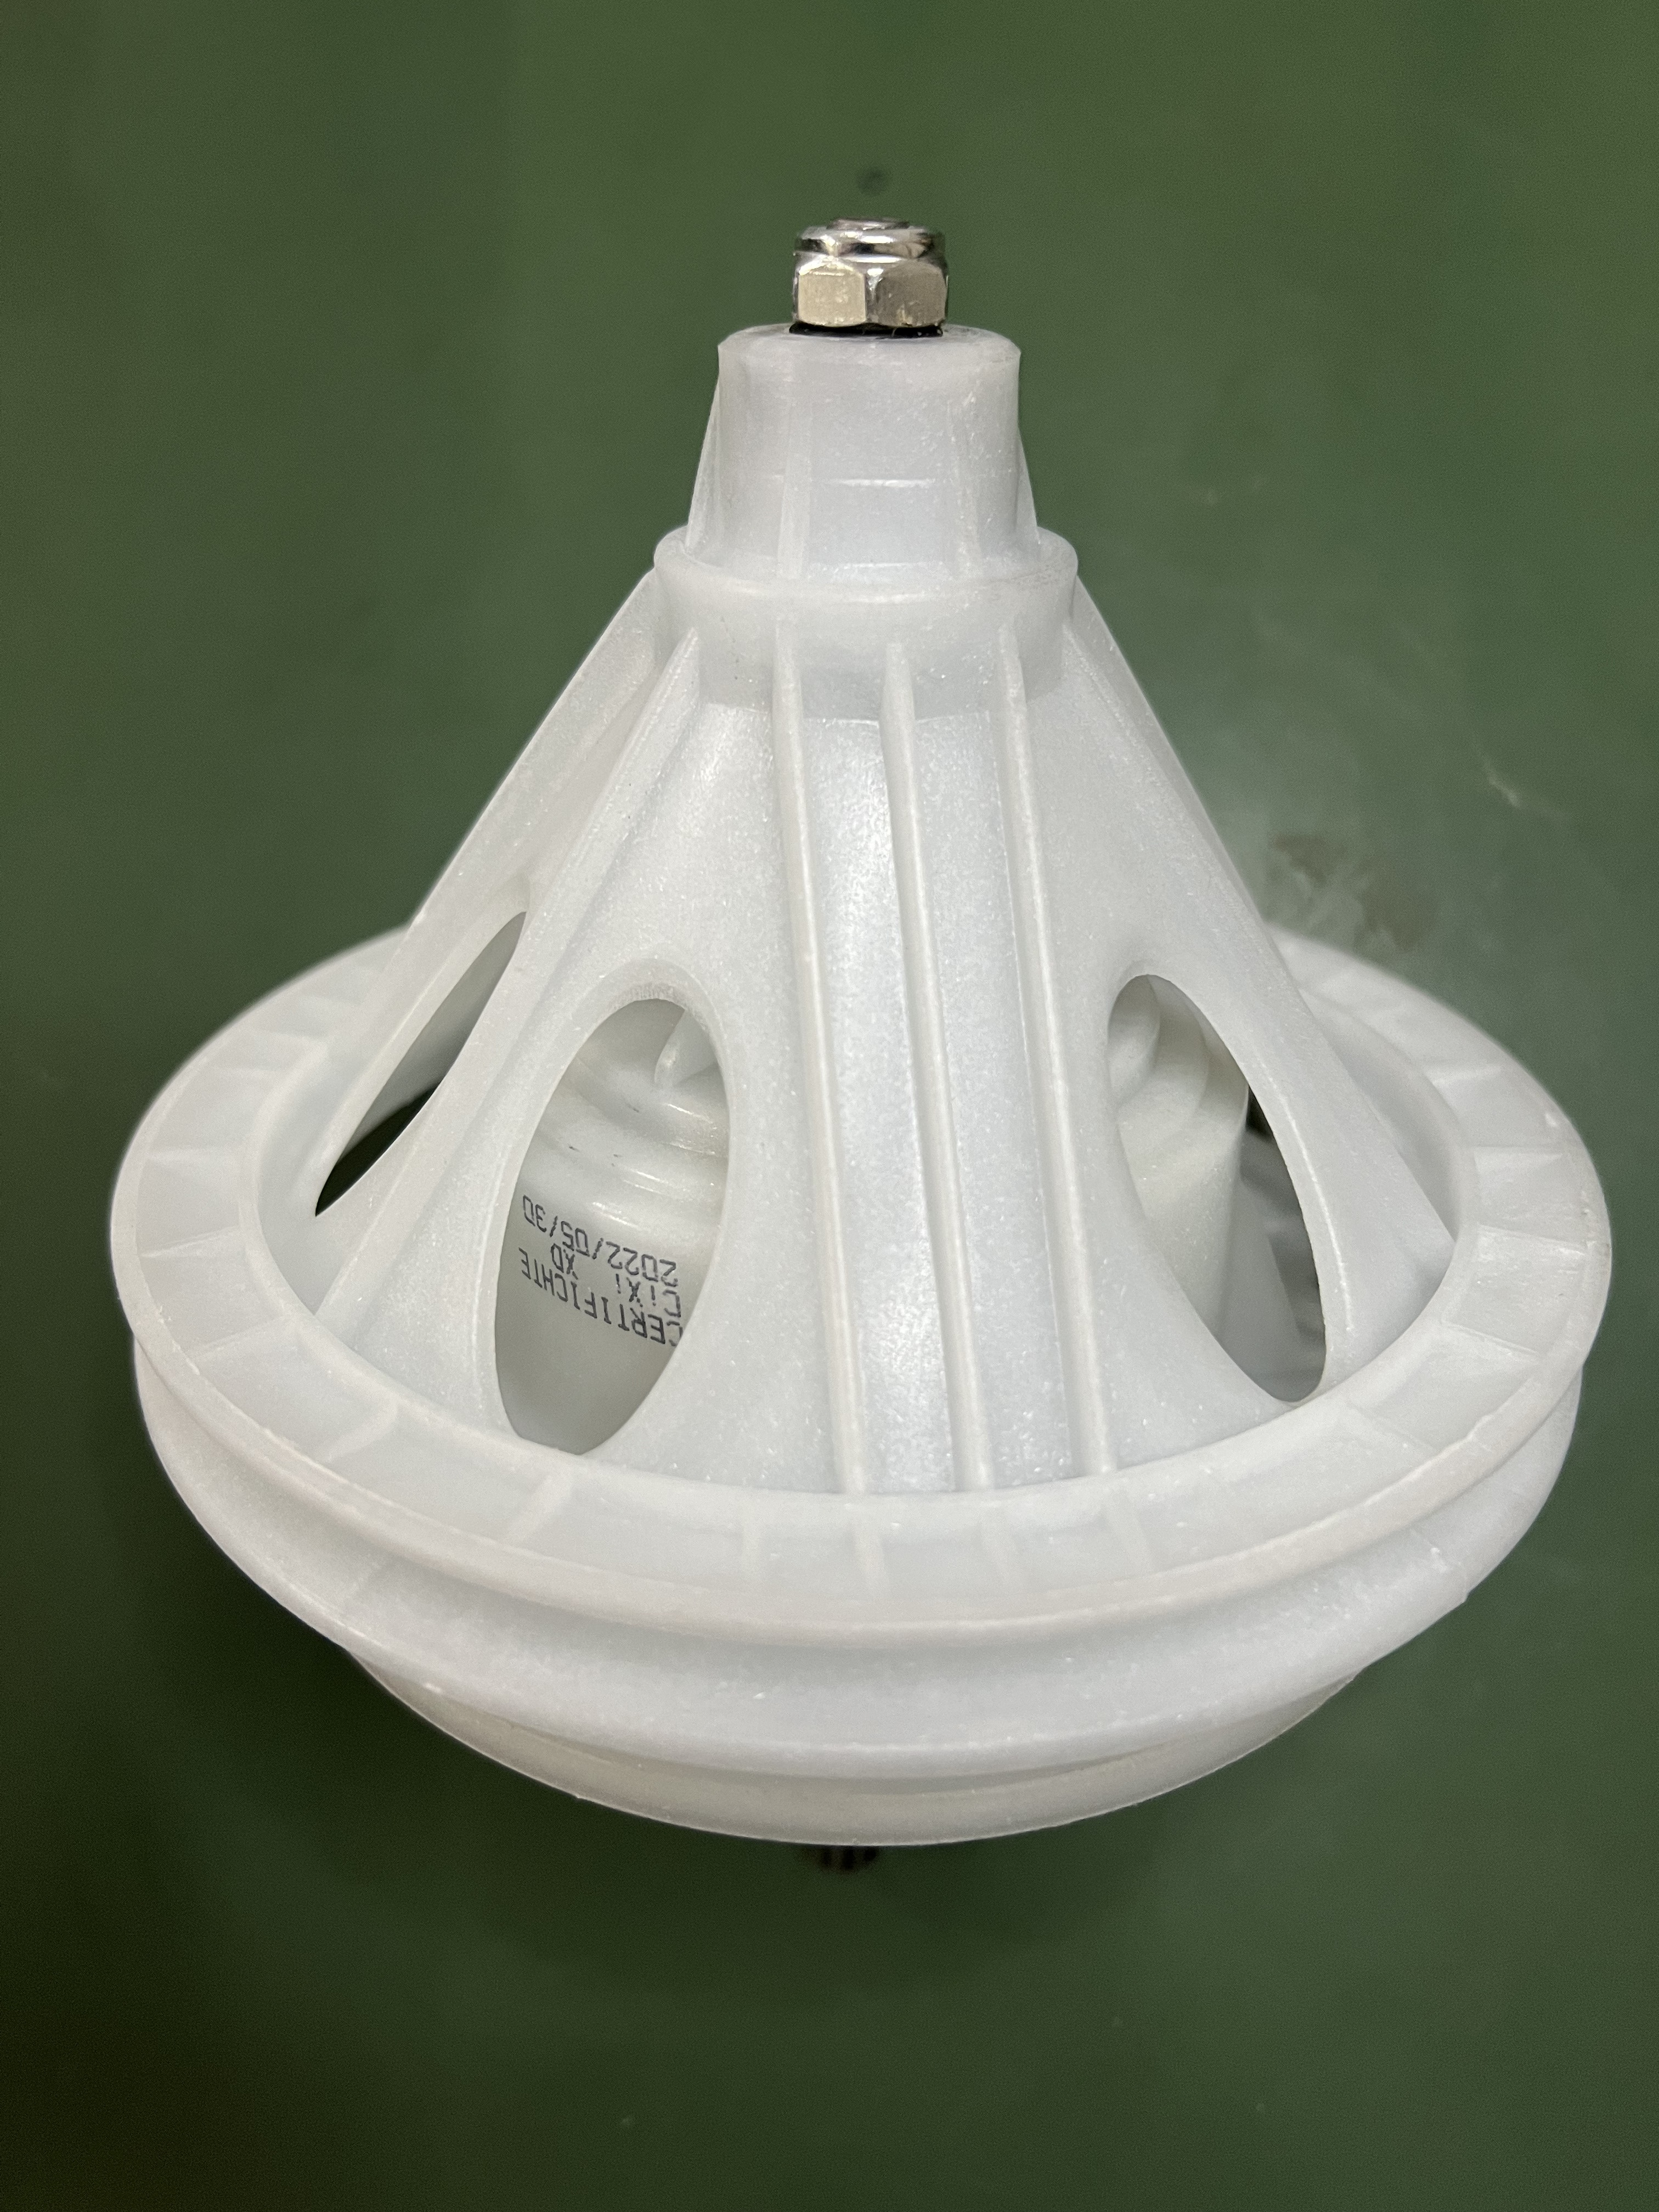gear_box_circle: (108, 225, 1612, 1871)
